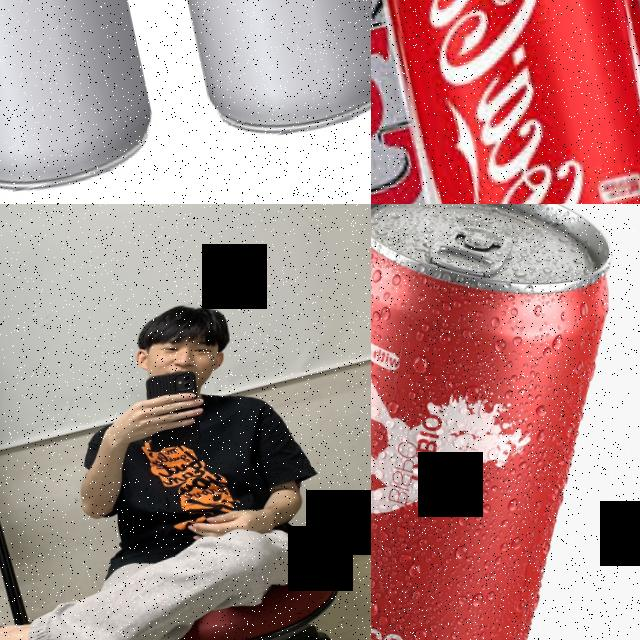can: (371, 204, 640, 640), (371, 0, 640, 204), (136, 0, 371, 151), (0, 0, 163, 204), (488, 0, 640, 204), (371, 0, 479, 204)
